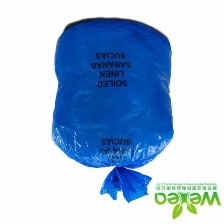plastic_bag: (40, 14, 176, 206)
